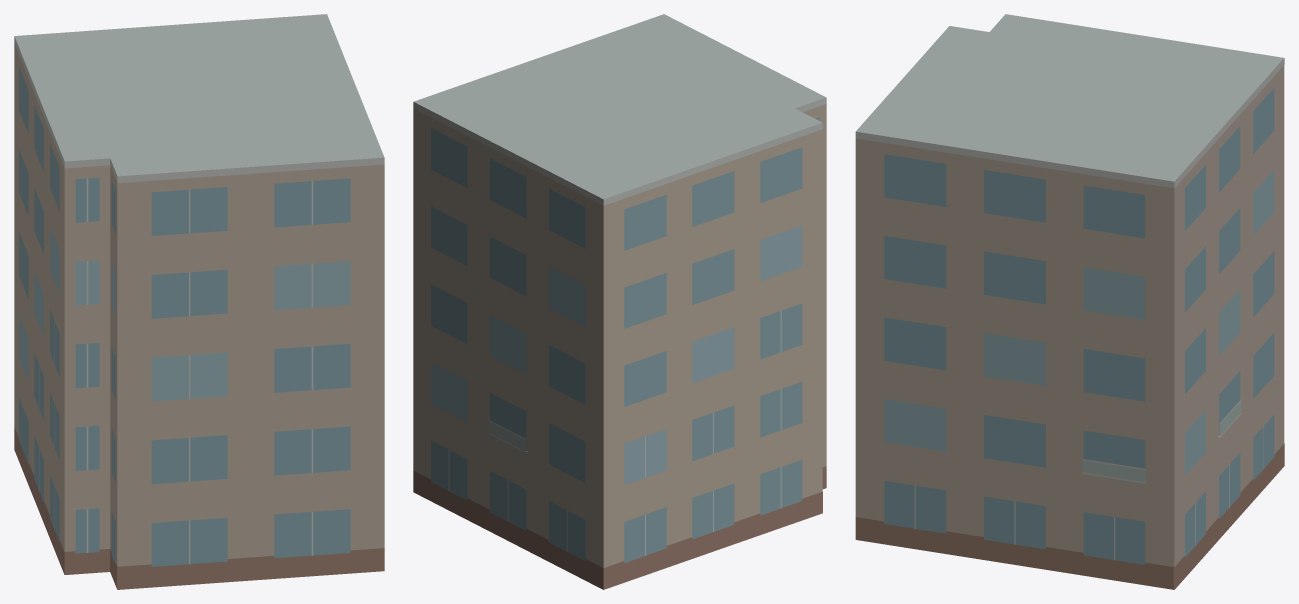
File: survey-upis-32878026.glb
3 renders of one model, left to right at view 1: azimuth 30°, elevation 25°; view 2: azimuth 150°, elevation 25°; view 3: azimuth 270°, elevation 25°, orthographic. The views are drawn at different scales.
Visible parts, largest first — view 1: survey-upis-32878026.tmp; view 2: survey-upis-32878026.tmp; view 3: survey-upis-32878026.tmp.
Boxes of the visible parts, bbox=[...] form: survey-upis-32878026.tmp: bbox=[14, 14, 384, 589]; survey-upis-32878026.tmp: bbox=[413, 14, 826, 589]; survey-upis-32878026.tmp: bbox=[855, 14, 1284, 589].
Size of the model in its own units: 13.05 by 14.8 by 14.1.
